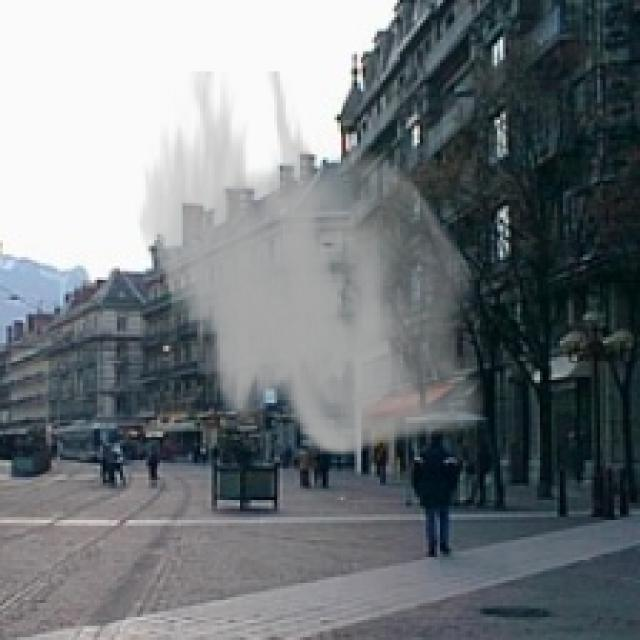Smoke: (134, 72, 486, 457)
